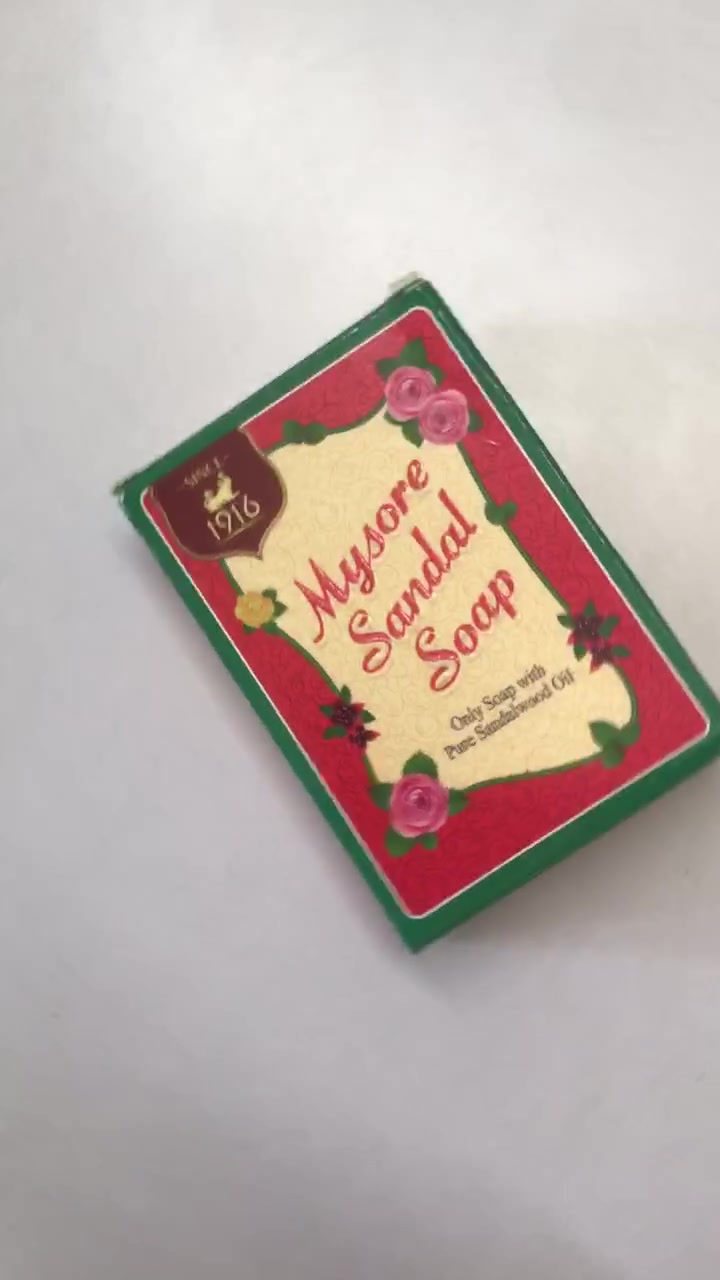mysore sandal soap: (120, 287, 720, 954)
